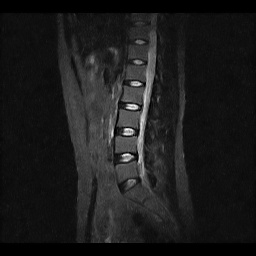L1,v1: (121, 62, 152, 81)
L1-L2,v1: (119, 73, 150, 92)
L2,v1: (117, 85, 148, 104)
L2-L3,v1: (114, 96, 145, 115)
L3,v1: (113, 108, 144, 127)
L3-L4,v1: (111, 120, 142, 139)
L4,v1: (110, 135, 141, 154)
L4-L5,v2: (111, 147, 142, 166)
L5,v1: (111, 161, 142, 180)
L5-S1,v3: (114, 172, 145, 191)
T12-L1,v1: (122, 52, 153, 71)
